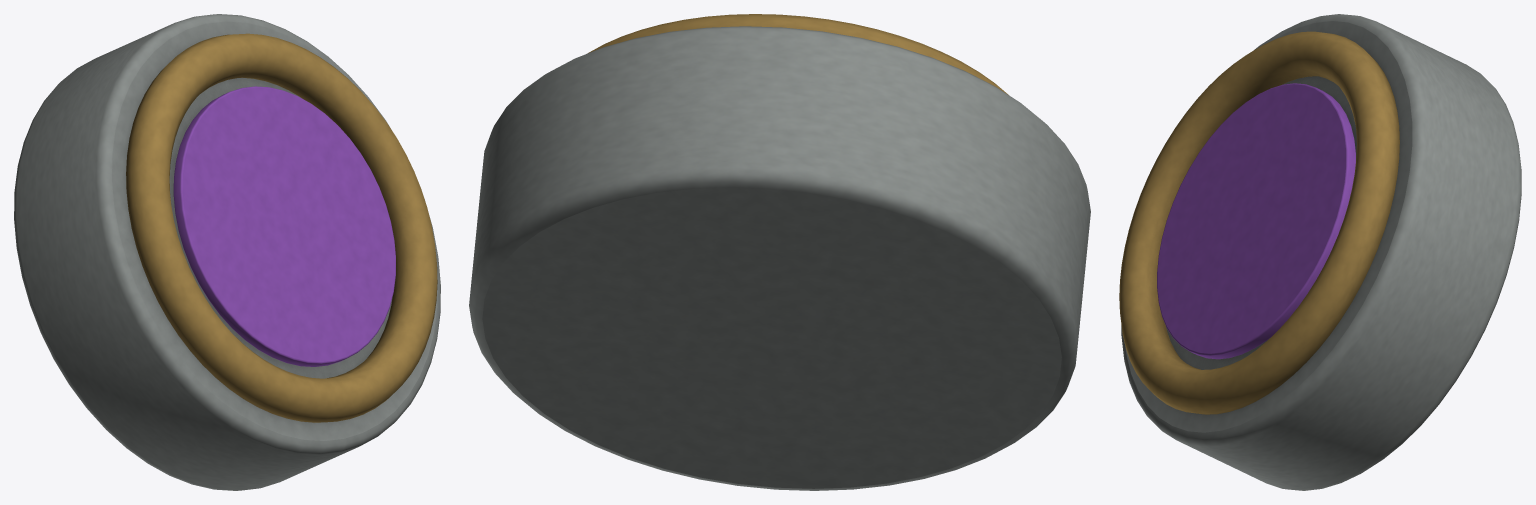
The picture shows the model from 3 angles, left to right: view 1: azimuth 30°, elevation 25°; view 2: azimuth 150°, elevation 25°; view 3: azimuth 270°, elevation 25°; orthographic projection. The views are drawn at different scales.
Visible parts, largest first — view 1: Keyed carrier puck; view 2: Keyed carrier puck; view 3: Keyed carrier puck.
Boxes of the visible parts, left/top/right/bottom form: Keyed carrier puck: left=14, top=14, right=440, bottom=490; Keyed carrier puck: left=469, top=14, right=1090, bottom=490; Keyed carrier puck: left=1119, top=14, right=1521, bottom=490.
Size of the model in its own units: 0.9471 by 0.9014 by 0.7973.
1 material, 1 textured.
